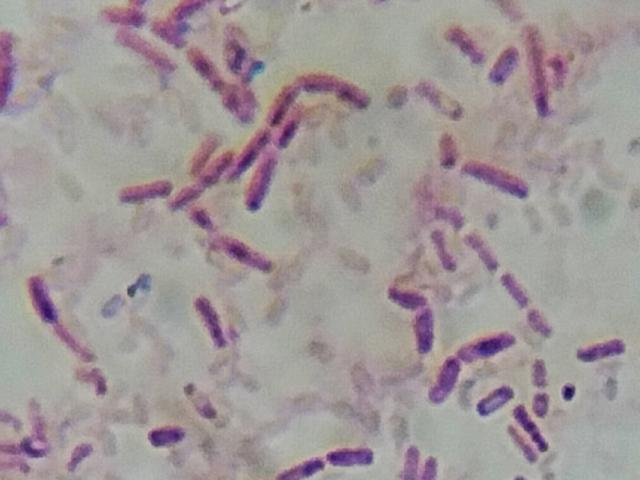E. coli: (519, 26, 559, 118), (463, 158, 535, 198), (0, 33, 25, 108), (113, 177, 177, 206), (457, 334, 518, 364), (223, 238, 272, 274), (193, 289, 224, 344), (188, 51, 225, 97), (247, 155, 280, 206), (30, 275, 64, 323), (140, 419, 192, 450), (122, 34, 168, 69), (230, 135, 272, 173), (428, 226, 461, 272), (179, 374, 211, 420), (517, 400, 547, 449), (487, 44, 521, 86), (327, 439, 376, 467), (290, 65, 337, 94), (575, 341, 629, 366), (420, 78, 457, 114), (59, 324, 95, 361), (504, 426, 535, 468), (468, 230, 500, 270), (199, 145, 232, 182), (502, 274, 534, 311), (106, 1, 153, 26), (434, 355, 461, 398), (414, 310, 444, 347), (274, 452, 313, 480), (224, 81, 252, 120), (339, 78, 368, 115), (153, 18, 190, 45), (264, 87, 296, 117), (388, 280, 425, 305), (437, 130, 460, 170), (189, 136, 220, 165), (479, 385, 511, 413), (397, 444, 421, 478), (530, 310, 556, 341), (29, 408, 54, 438), (170, 184, 203, 204), (530, 356, 549, 387), (188, 205, 210, 230), (277, 120, 299, 143), (422, 448, 438, 478), (535, 389, 549, 414), (0, 440, 24, 454), (129, 472, 131, 473)
